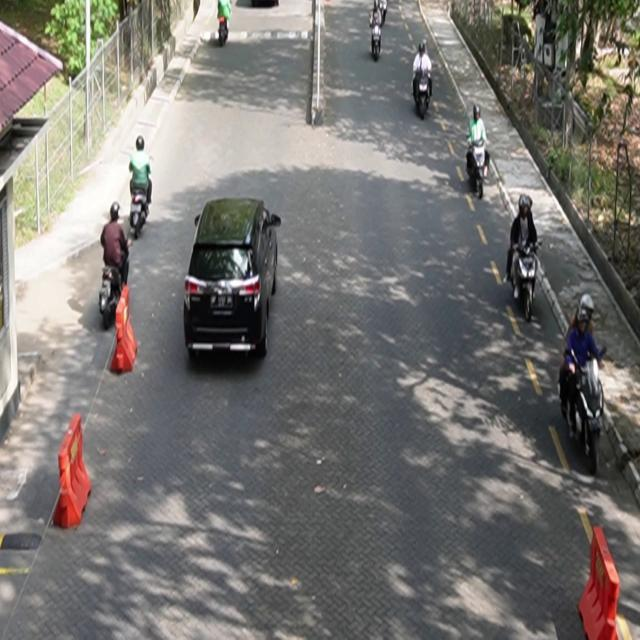car: (184, 197, 282, 361)
